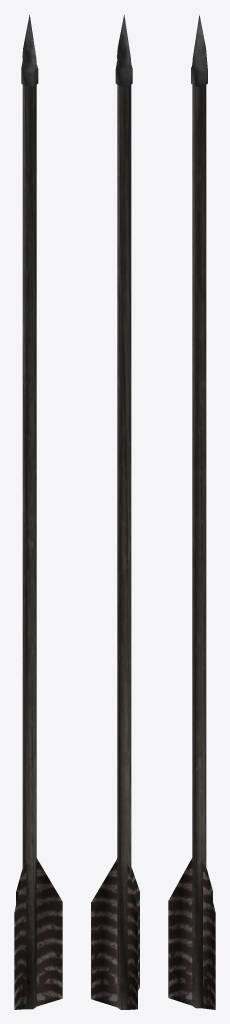
Rendered from arrow.glb.
3 renders of one model, left to right at view 1: azimuth 30°, elevation 25°; view 2: azimuth 210°, elevation 25°; view 3: azimuth 330°, elevation 25°, orthographic.
Visible parts, largest first — view 1: Arrow; view 2: Arrow; view 3: Arrow.
Part boxes in pixels (left/top/right/bottom): Arrow: left=14, top=15, right=62, bottom=1009; Arrow: left=91, top=15, right=139, bottom=1009; Arrow: left=168, top=14, right=215, bottom=1009.
Size of the model in its own units: 0.0507 by 1 by 0.0402.
1 material, 1 textured.
